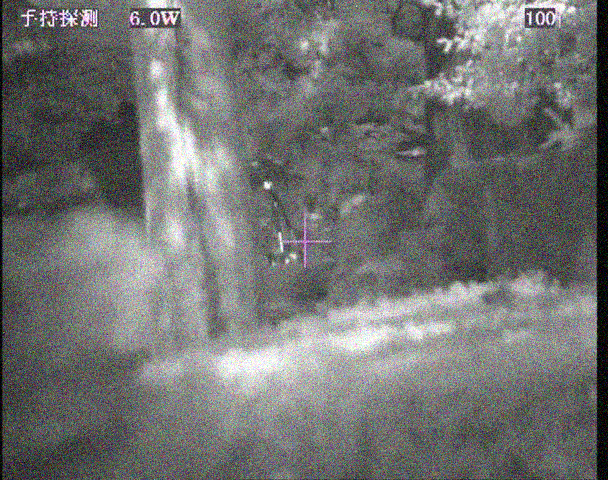my: (261, 180, 271, 190)
